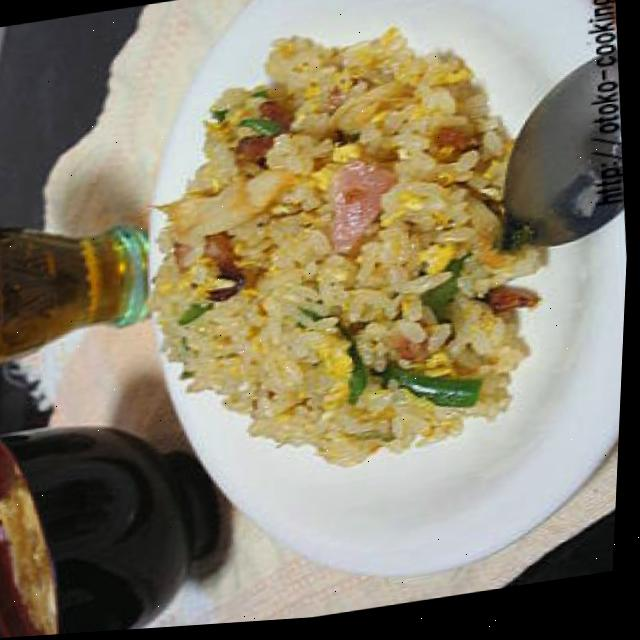米饭主食: (126, 0, 604, 582)
